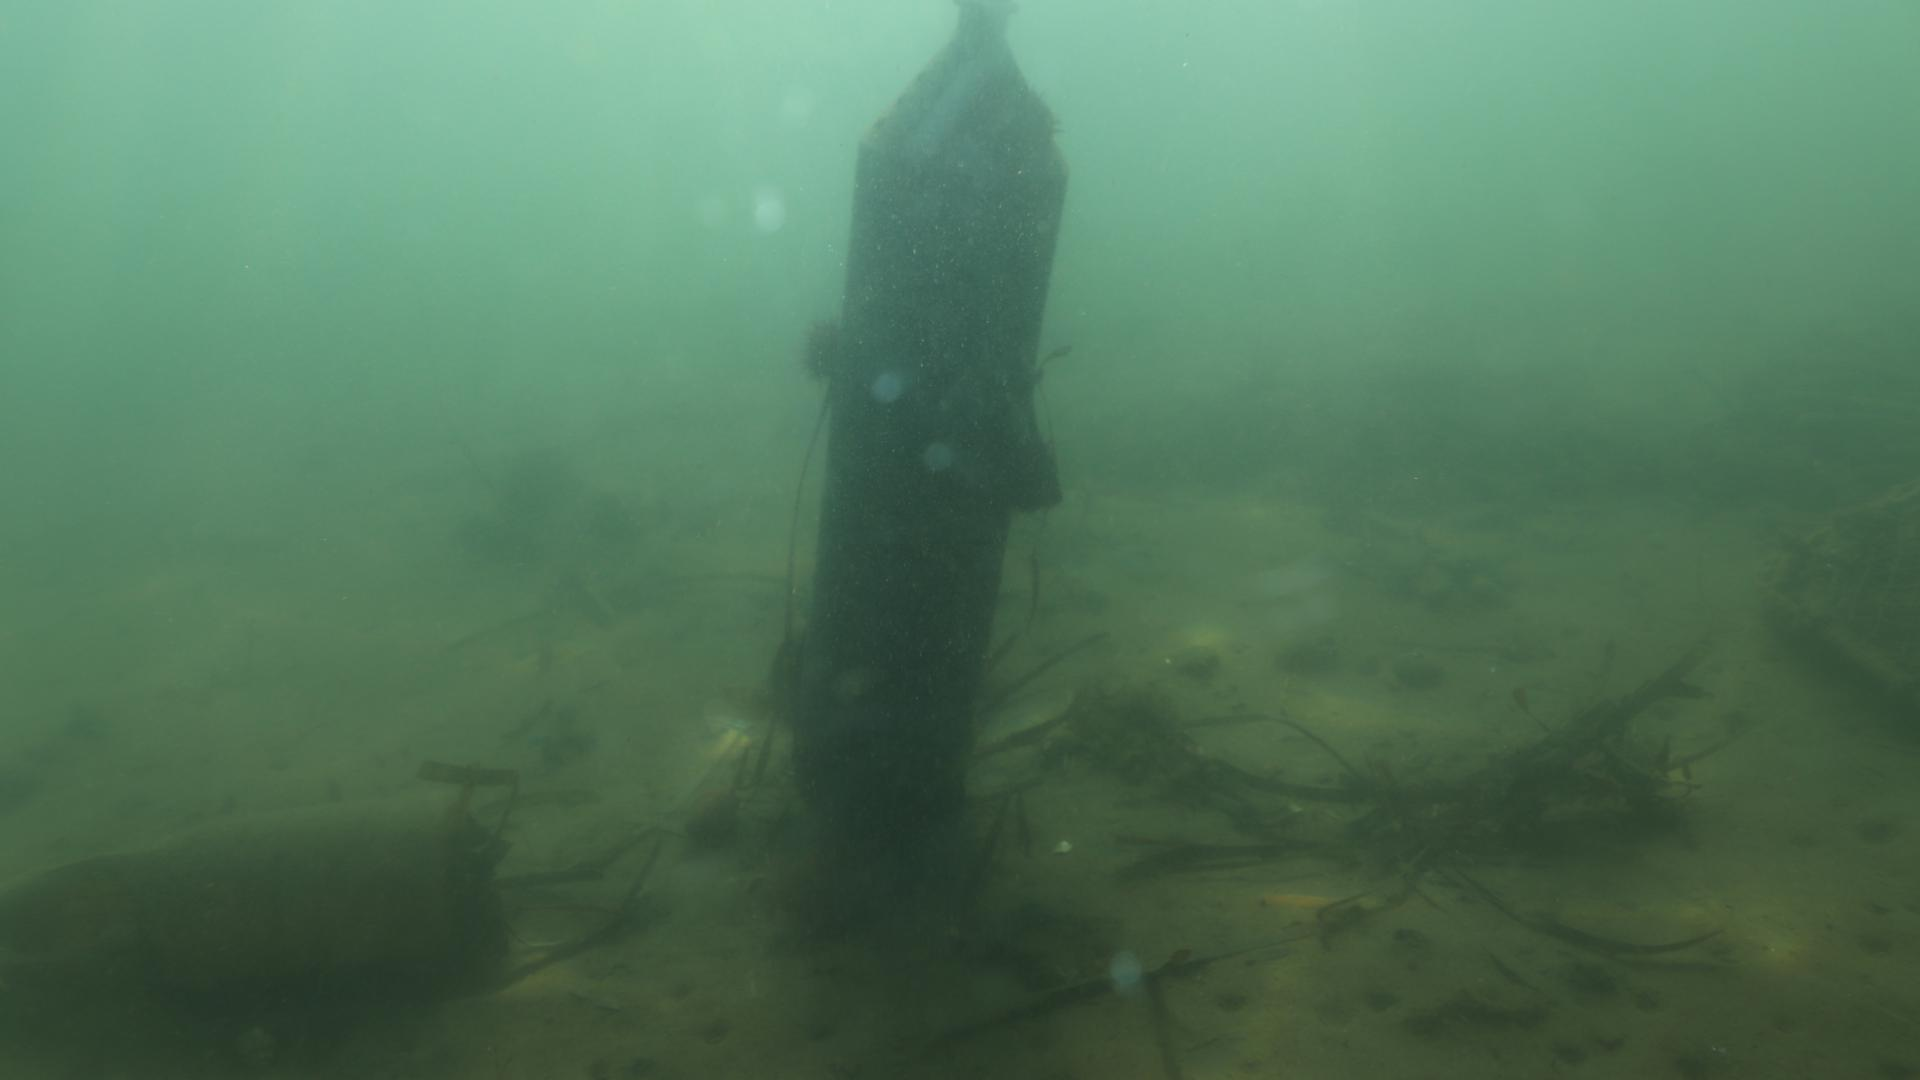eel fish trap: (786, 1, 1077, 841)
